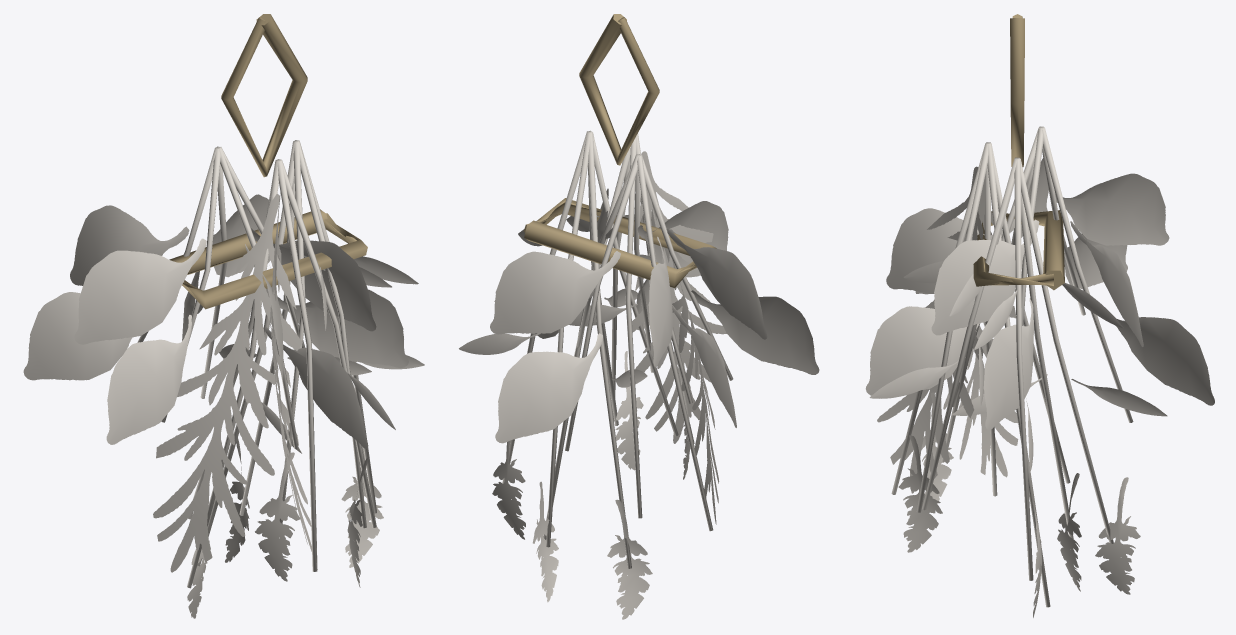
Rendered from CM_BotanicalPlanterKit01_Hanging_Mixed_Reduced.fbx.
The picture shows the model from 3 angles, left to right: view 1: azimuth 30°, elevation 25°; view 2: azimuth 150°, elevation 25°; view 3: azimuth 270°, elevation 25°; orthographic projection. The views are drawn at different scales.
Parts seen in each view (by area): view 1: CM_BotanicalPlanterKit01_Hanging_Mixed_FoliageDry, CM_BotanicalPlanterKit01_Hanging_Mixed_Twine; view 2: CM_BotanicalPlanterKit01_Hanging_Mixed_FoliageDry, CM_BotanicalPlanterKit01_Hanging_Mixed_Twine; view 3: CM_BotanicalPlanterKit01_Hanging_Mixed_FoliageDry, CM_BotanicalPlanterKit01_Hanging_Mixed_Twine.
Part boxes in pixels (<box>): CM_BotanicalPlanterKit01_Hanging_Mixed_FoliageDry: <box>23,140,424,618</box>; CM_BotanicalPlanterKit01_Hanging_Mixed_Twine: <box>169,14,367,309</box>; CM_BotanicalPlanterKit01_Hanging_Mixed_FoliageDry: <box>459,130,819,619</box>; CM_BotanicalPlanterKit01_Hanging_Mixed_Twine: <box>523,14,716,288</box>; CM_BotanicalPlanterKit01_Hanging_Mixed_FoliageDry: <box>865,126,1214,617</box>; CM_BotanicalPlanterKit01_Hanging_Mixed_Twine: <box>973,14,1064,290</box>.
Bounding box in the file's own units: 0.2781 × 0.4513 × 0.2513.
